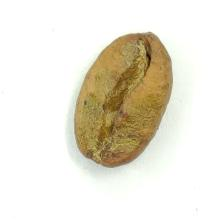NG: (79, 59, 147, 159)
